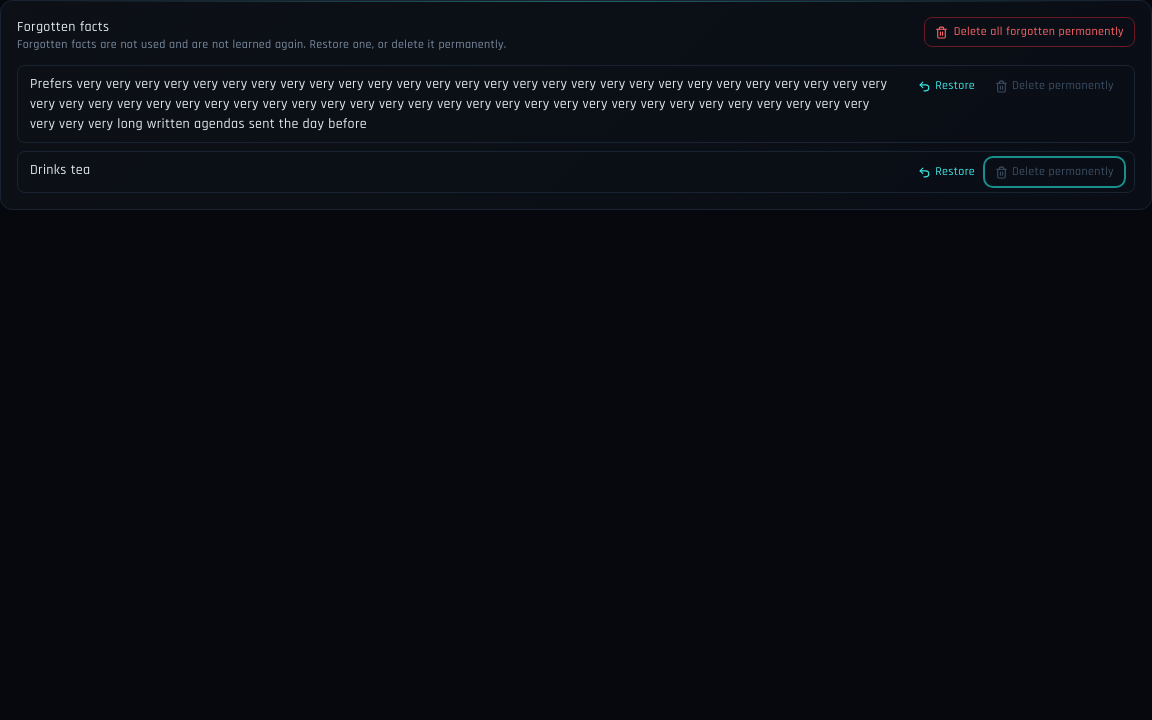
Test: TwinForgottenList › Delete permanently asks first; Cancel erases nothing and returns focus to the button
Step 1. Click the button with aria-label "Delete permanently: Drinks tea" → point(1055, 172), box [987,160,1122,184]
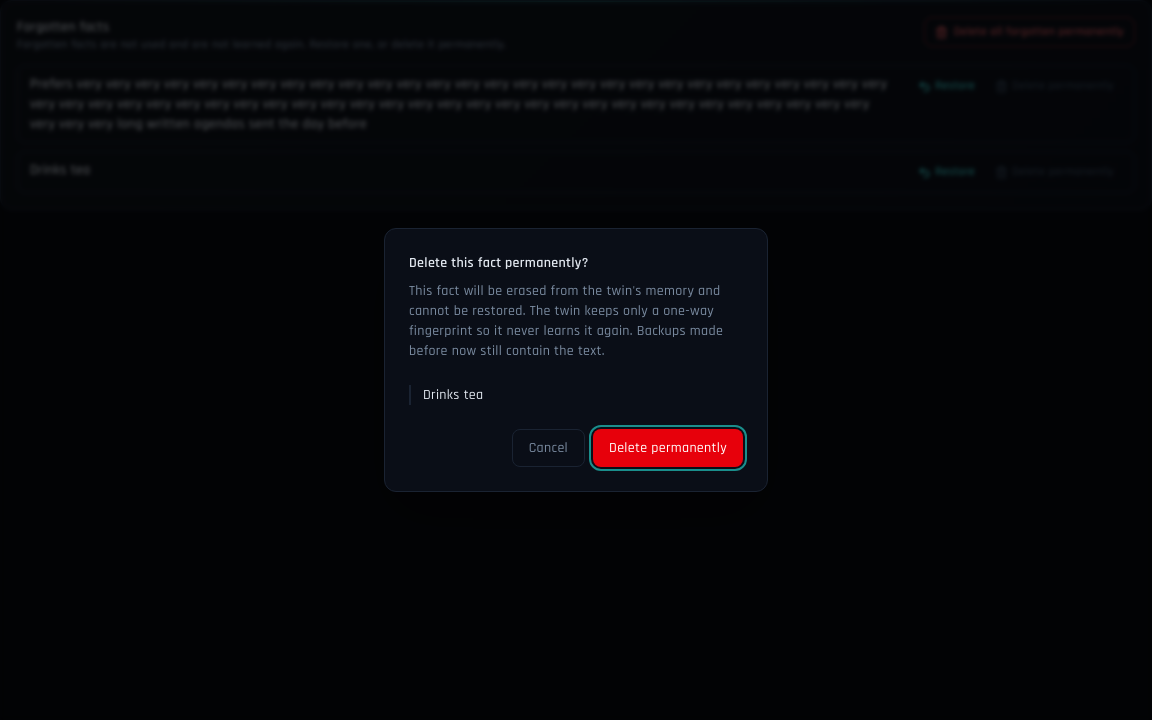
Now the heading "Delete this fact permanently?" is shown, box [409,254,589,272]
Now the text "backups made before now still contain the text" is shown, box [409,282,723,360]
Step 2. Click the button "Cancel" → point(548, 448), box [512,429,585,467]
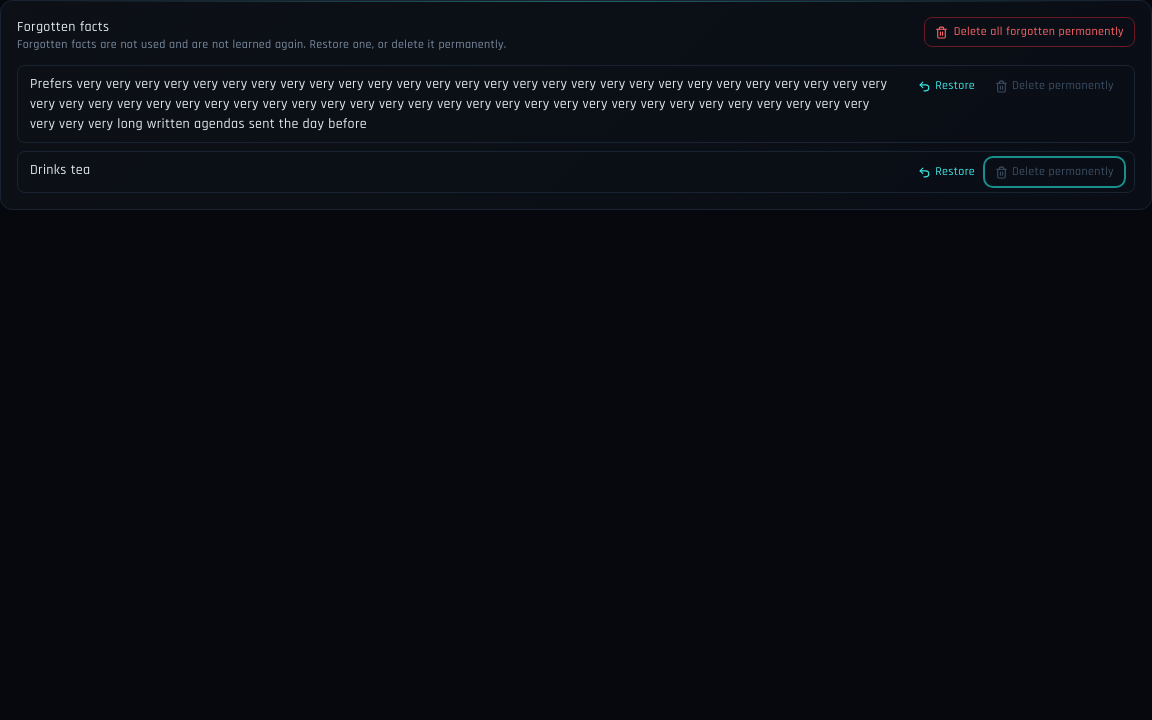
Now the heading "Delete this fact permanently?" is gone
